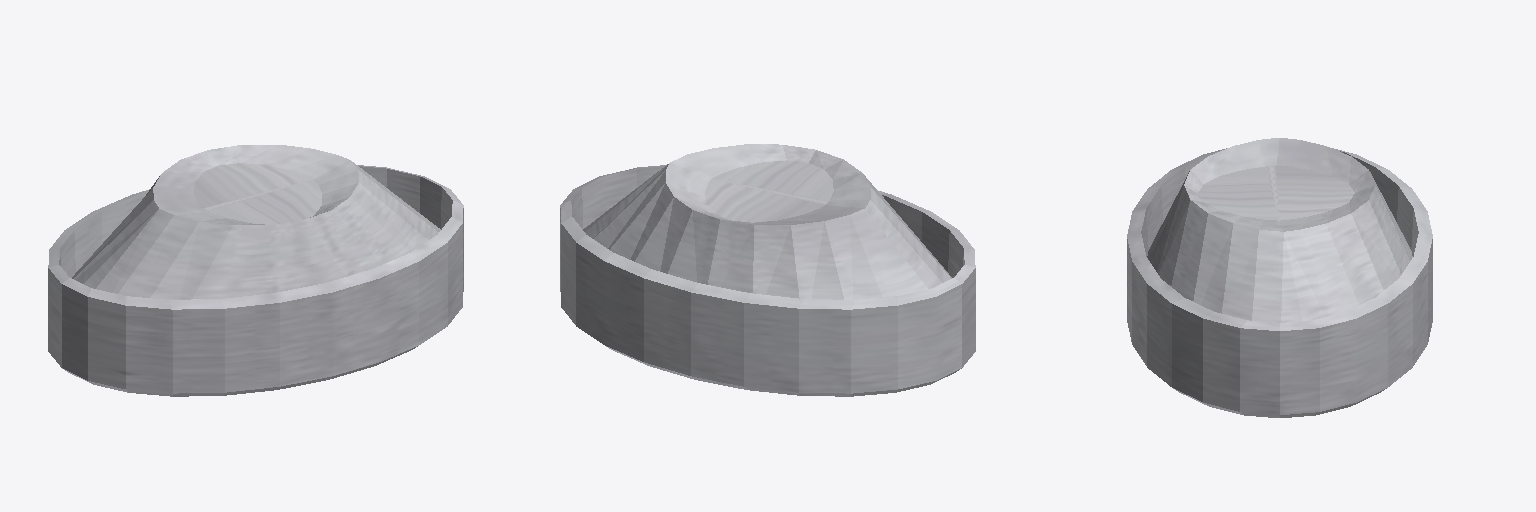
The picture shows the model from 3 angles: view 1: azimuth 30°, elevation 25°; view 2: azimuth 150°, elevation 25°; view 3: azimuth 270°, elevation 25°; orthographic projection.
Visible parts, largest first — view 1: SailorHat.obj; view 2: SailorHat.obj; view 3: SailorHat.obj.
Part boxes in pixels (left/top/right/bottom): SailorHat.obj: left=48, top=145, right=463, bottom=396; SailorHat.obj: left=560, top=144, right=975, bottom=396; SailorHat.obj: left=1127, top=138, right=1432, bottom=417.
Size of the model in its own units: 6.91 by 2.42 by 4.71.
1 materials, 1 textured.